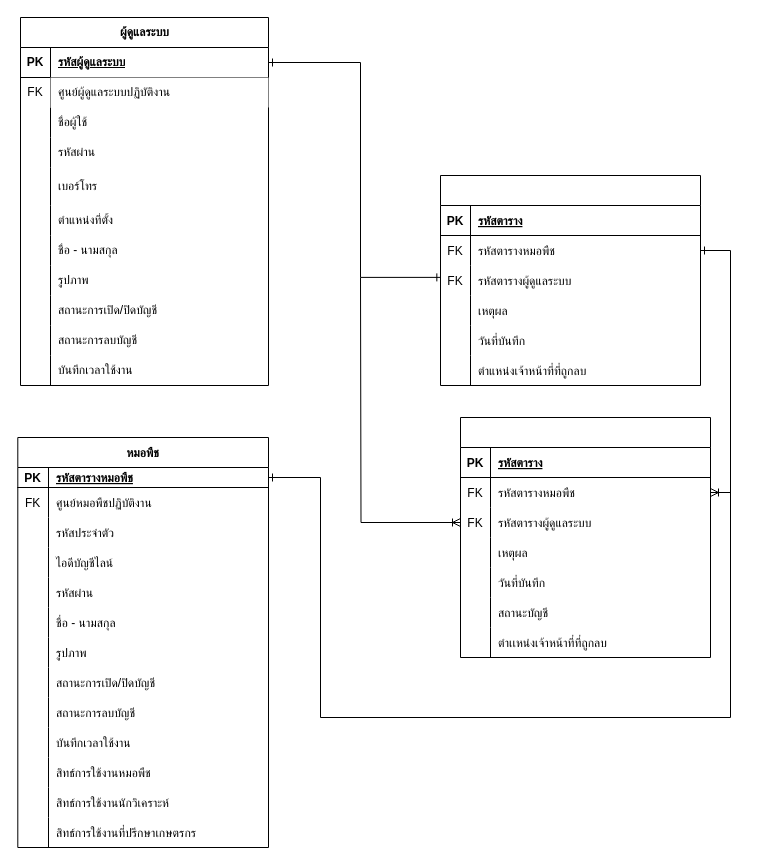
Image size: 757x865. Some labels were removed from this diagram. Each missing label, with the box of its shape:
เหตุผลปิด/เปิดบัญชีเจ้าหน้าที่: (460, 416, 710, 658)
เหตุผลลบบัญชีเจ้าหน้าที่: (440, 174, 700, 386)
